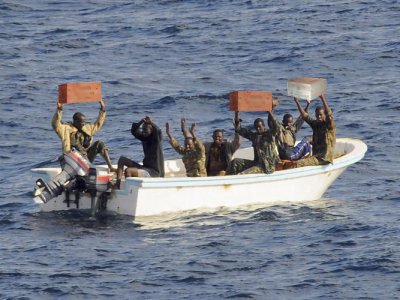Pirate boat: (31, 75, 369, 219)
